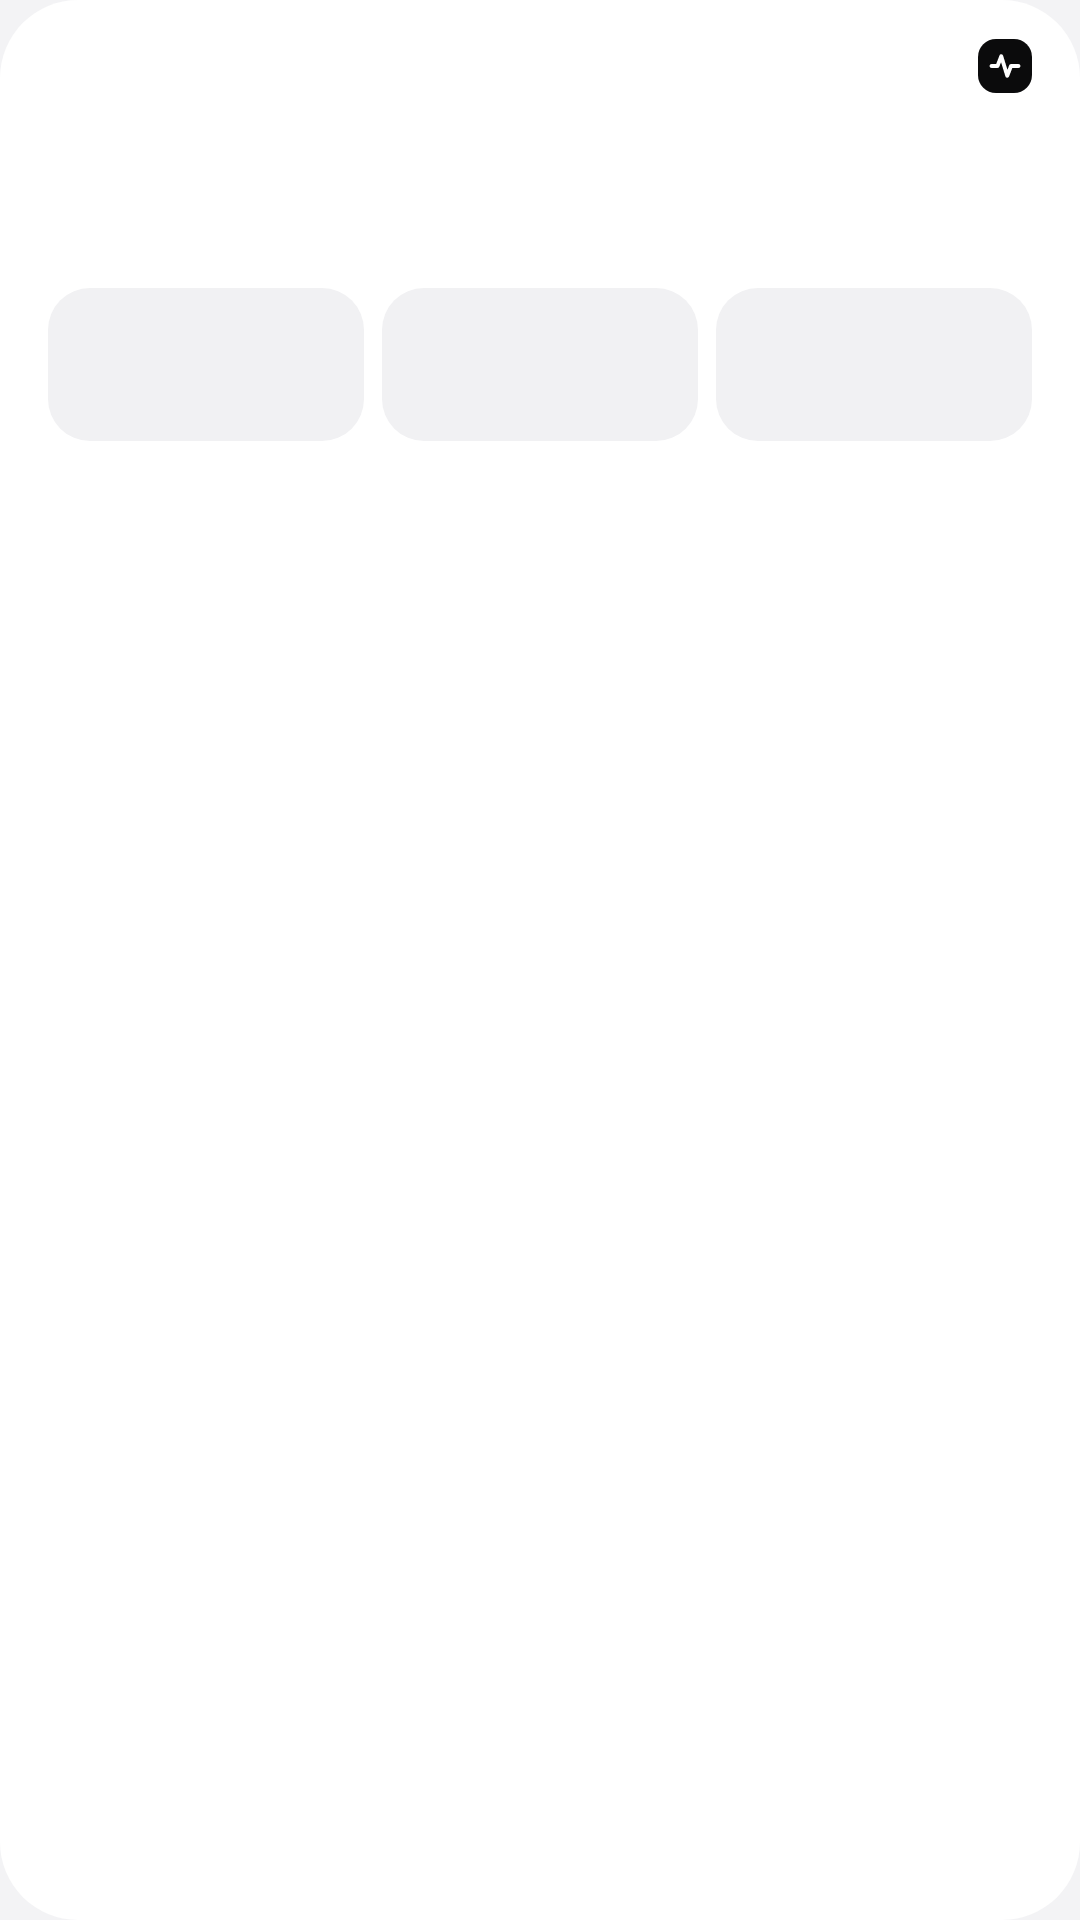

Screen size 1080 × 1920. Icon name, then its box in pixels as (x1, y1, x2, y2):
pulse: (978, 39, 1032, 93)
